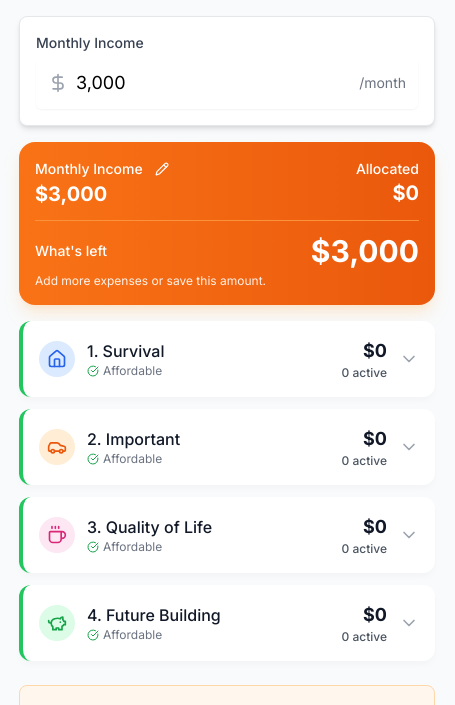
Scenario: BudgetApp - Budget Calculation Logic › Edge Cases › should handle negative income input
Note: Try to input negative value
Replace the text in the field showing "3,000" with "-500". click: (227, 83)
box: [36,57,418,109]
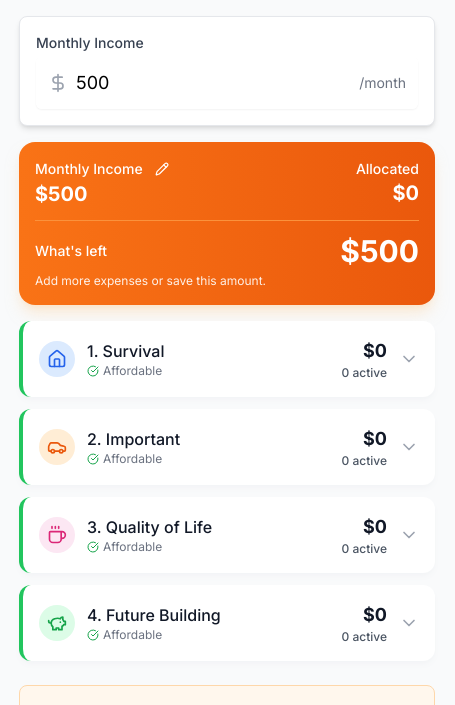
Expected: the field showing "3,000" holds "500", [36,57,418,109]
